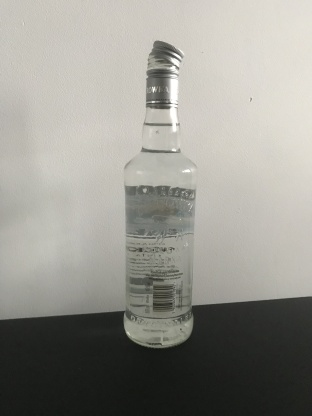nakretka: (144, 38, 184, 109)
